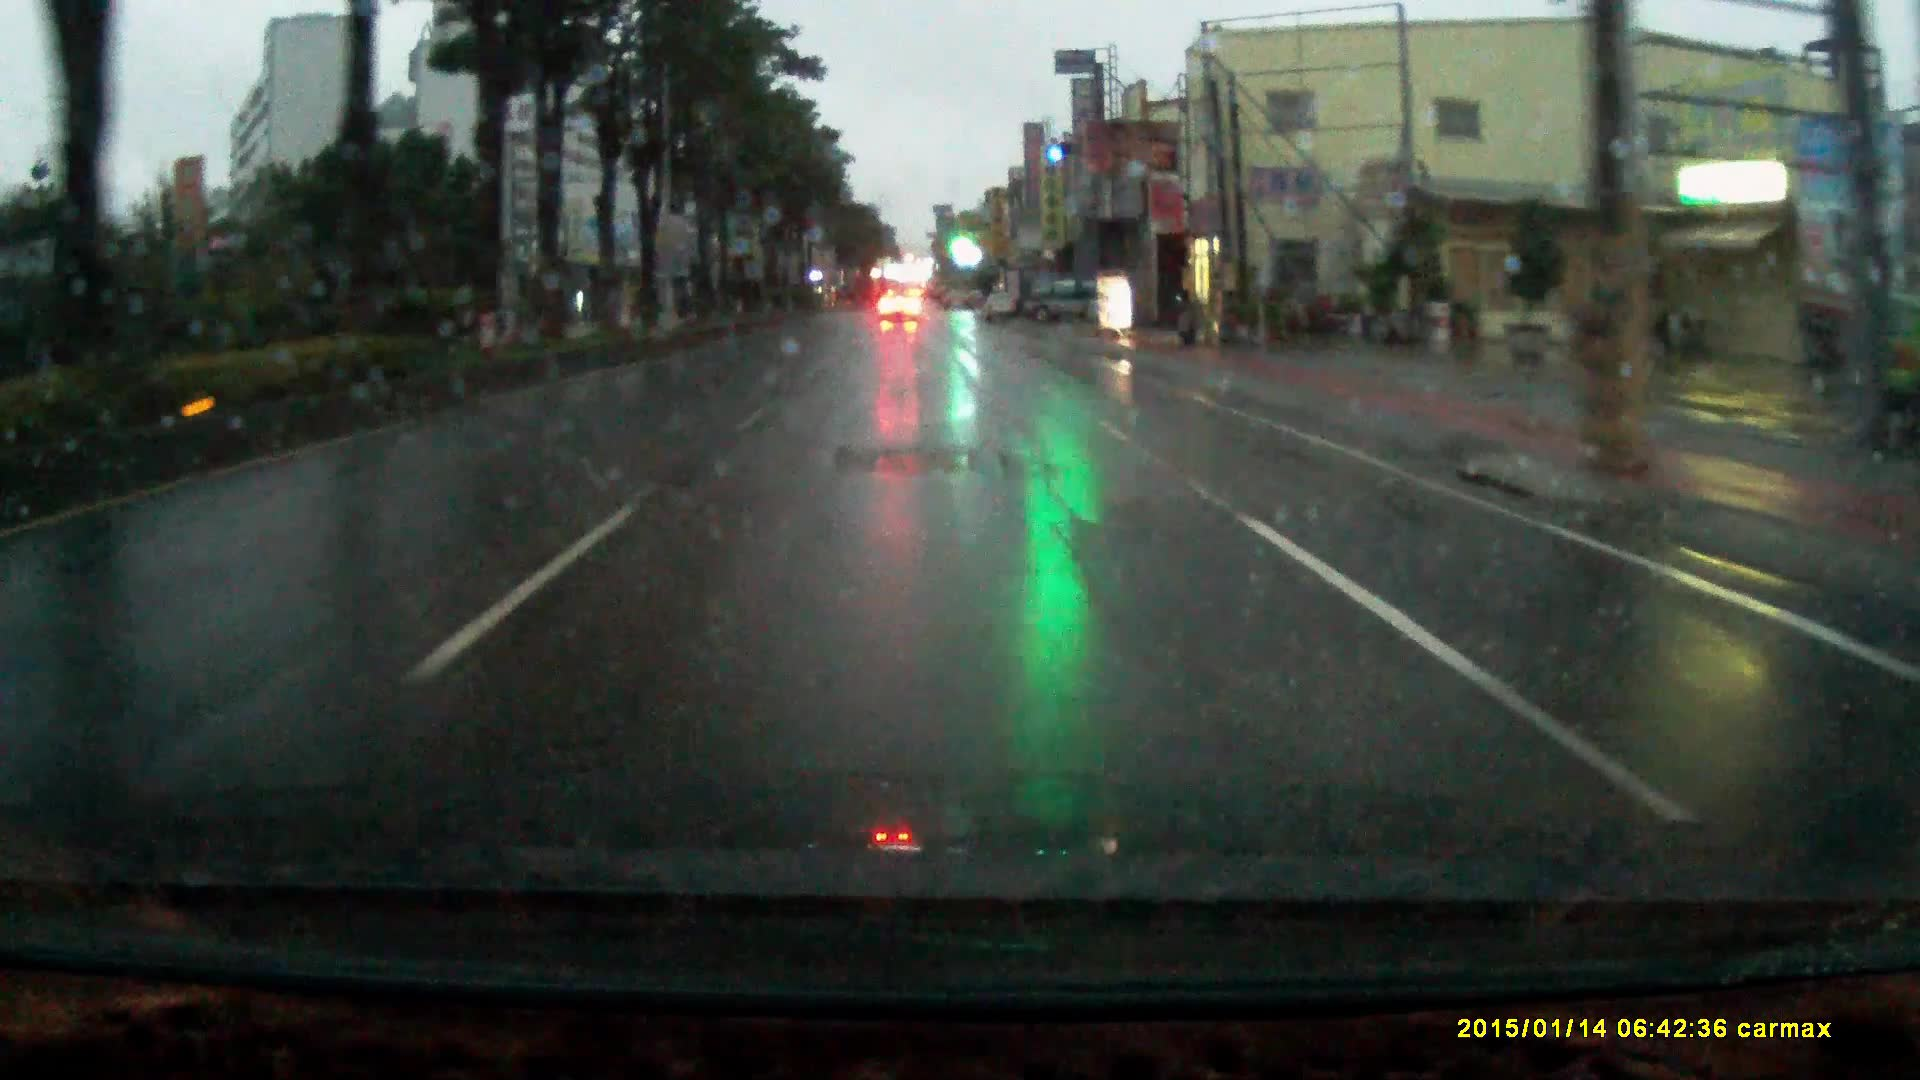vehicle: (1025, 276, 1105, 324), (880, 291, 926, 328)
